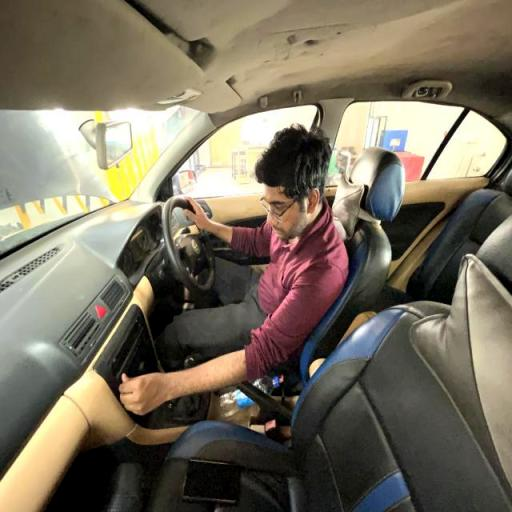operatingradio: (103, 127, 350, 420)
